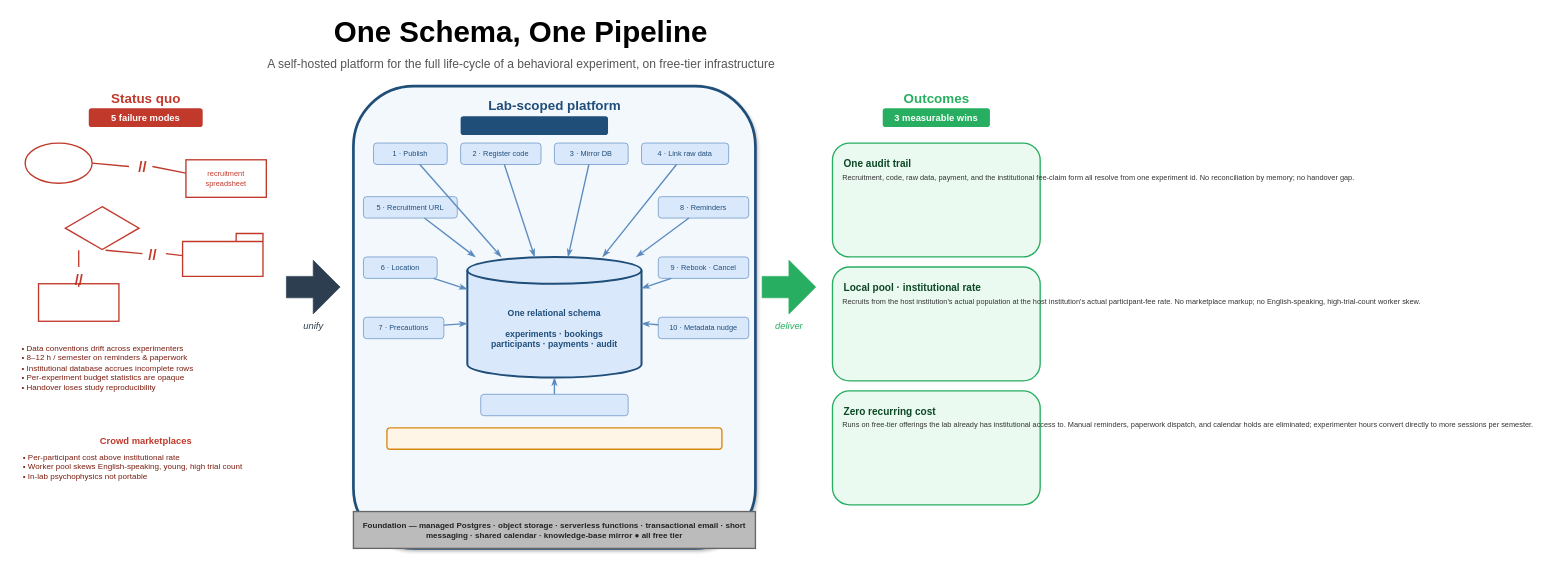
This 1544x565 diagram has some shape labels left out. Each missing label, with the centre of its shape:
"11 sequenced operations" belongs at point (534, 125).
"11 · Participant-fee claim" belongs at point (554, 405).
"email thread" belongs at point (58, 163).
"lab-server data folder" belongs at point (222, 254).
"paper fee forms" belongs at point (78, 302).
"shared calendar" belongs at point (101, 228).
"✓ confirmation gate · every external action requires explicit approval" belongs at point (554, 438).
